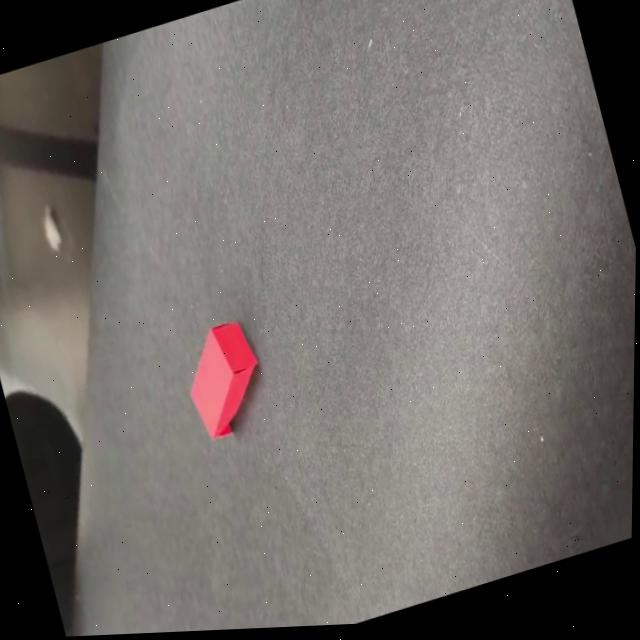red block: (172, 313, 274, 446)
